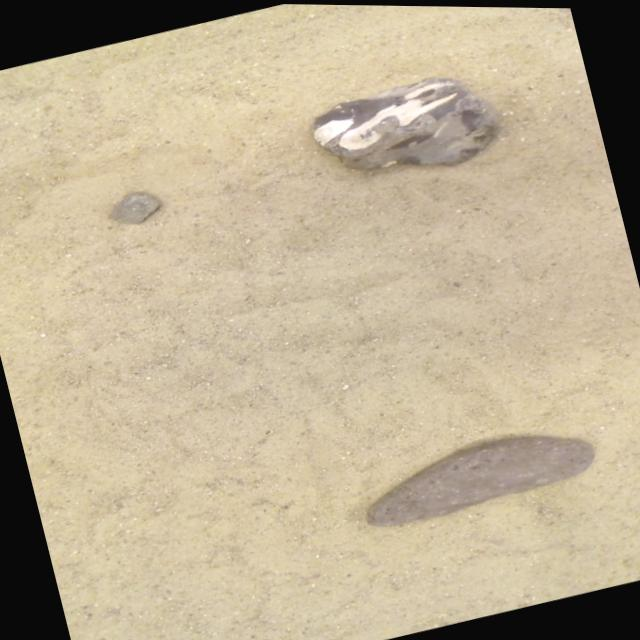rock: (367, 434, 593, 524), (311, 76, 492, 168), (107, 192, 158, 223)
